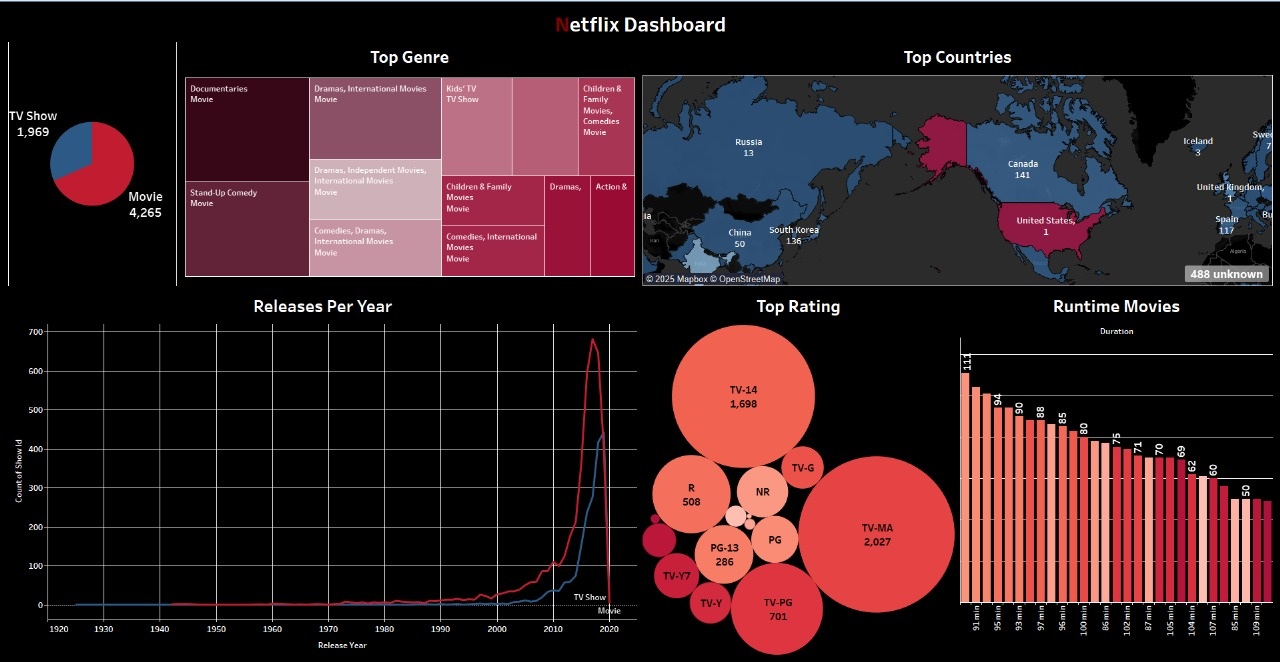

Layout of this report page (visuals, bound fields, positions):
{"tool":"tableau","page":{"name":"Dashboard 1","canvas":[1000,1000],"units":"permille","ordinal":0},"visuals":[{"type":"title","box":[5.8,14.1,988.4,86.6]},{"type":"worksheet","title":"Sheet 8","mark":"Pie","box":[5.8,100.7,135.5,356.8]},{"type":"worksheet","title":"Sheet 9","mark":"Square","box":[141.3,100.7,358.4,356.8]},{"type":"worksheet","title":"Sheet 11","mark":"Automatic","box":[499.7,100.7,494.5,356.8]},{"type":"worksheet","title":"Sheet 10","mark":"Automatic","rows":["show_id"],"cols":["release_year"],"box":[5.8,457.5,493.9,528.4]},{"type":"worksheet","title":"Sheet 13","mark":"Circle","box":[499.7,457.5,247.1,528.4]},{"type":"worksheet","title":"Sheet 12","mark":"Automatic","rows":["duration"],"cols":["duration"],"box":[746.9,457.5,247.3,528.4]}]}

Visuals, with their boxes on the dashboard's canvas, which has no fixed pixel size, in thousandths of its width and height (x1, y1, x2, y2). These are canvas units, not pixel positions in the 1280x662 screenshot, which may show the page scaled, cropped or inside an application window:
title: l=6, t=14, r=994, b=101
"Sheet 8" worksheet (Pie marks): l=6, t=101, r=141, b=458
"Sheet 9" worksheet (Square marks): l=141, t=101, r=500, b=458
"Sheet 11" worksheet: l=500, t=101, r=994, b=458
"Sheet 10" worksheet: l=6, t=458, r=500, b=986
"Sheet 13" worksheet (Circle marks): l=500, t=458, r=747, b=986
"Sheet 12" worksheet: l=747, t=458, r=994, b=986
